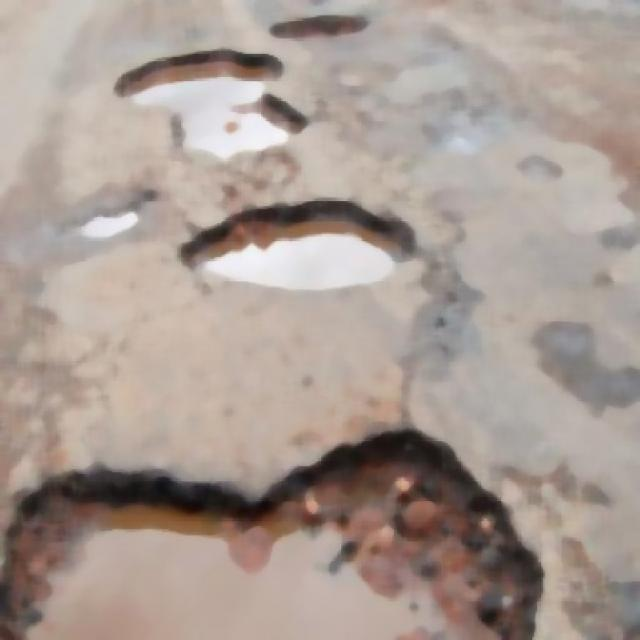Buraco: (0, 425, 553, 640), (173, 192, 425, 296), (112, 45, 316, 164), (47, 183, 169, 244), (267, 9, 375, 43)
